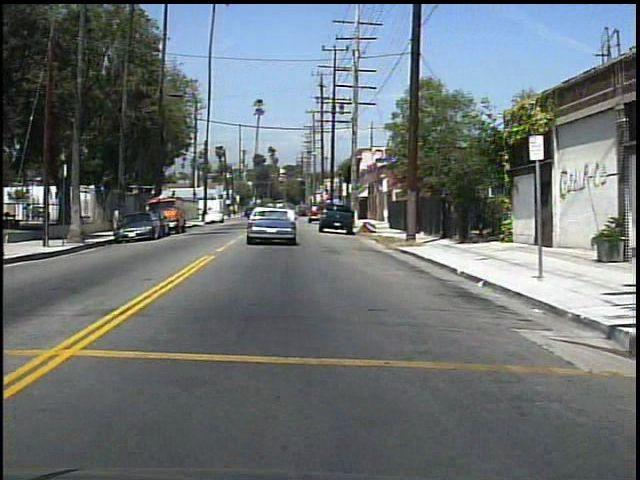person: (110, 202, 124, 235), (74, 198, 88, 227), (22, 200, 38, 225)
